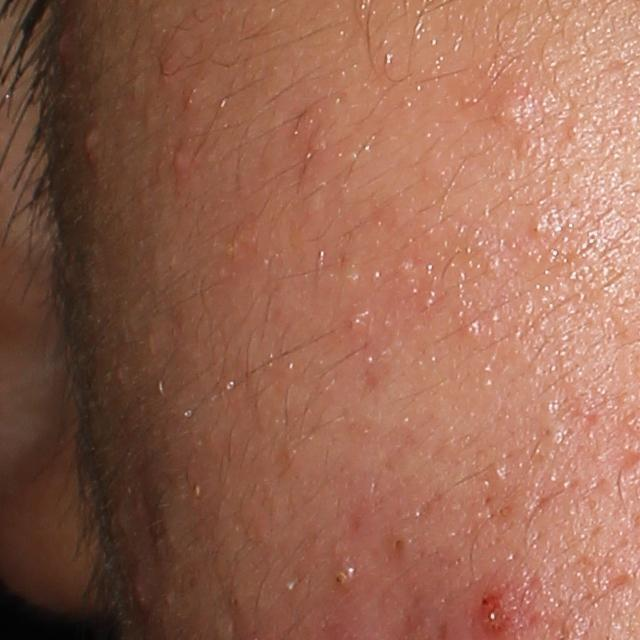comedo: (527, 200, 572, 247), (489, 93, 533, 130), (381, 526, 418, 568), (329, 561, 362, 594)
papule: (150, 50, 189, 90), (75, 121, 105, 168), (126, 573, 152, 612)
